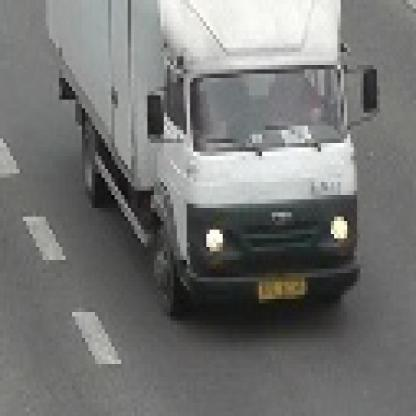truck: (47, 1, 384, 321)
